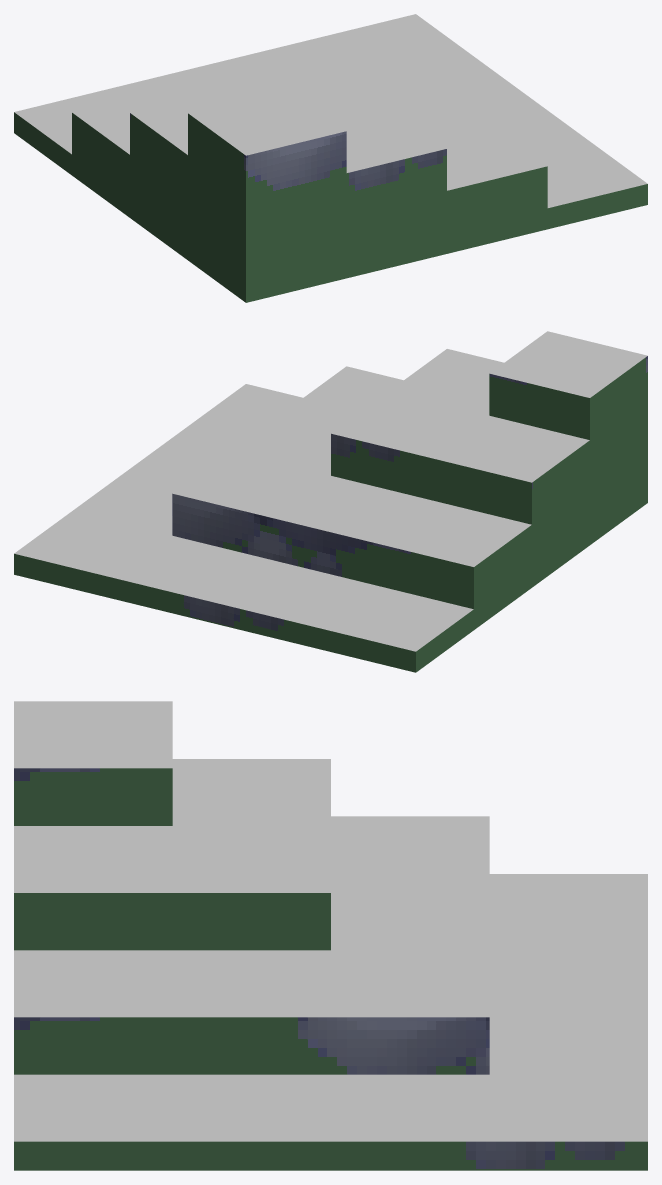
Rendered from floor_stairsCornerOuter.dae.
3 renders of one model, top to bottom at view 1: azimuth 30°, elevation 25°; view 2: azimuth 150°, elevation 25°; view 3: azimuth 270°, elevation 25°, orthographic. The views are drawn at different scales.
Parts seen in each view (by area): view 1: floor_stairsCornerOuter; view 2: floor_stairsCornerOuter; view 3: floor_stairsCornerOuter.
Part boxes in pixels (bbox=[...]): floor_stairsCornerOuter: bbox=[14, 14, 647, 302]; floor_stairsCornerOuter: bbox=[14, 331, 647, 672]; floor_stairsCornerOuter: bbox=[14, 701, 647, 1170].
Size of the model in its own units: 1 by 0.35 by 1.
